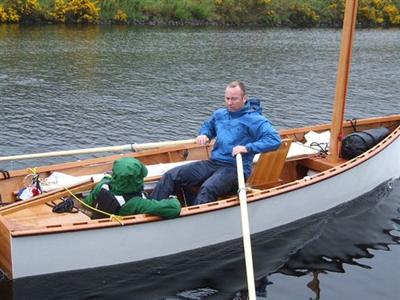person: (148, 81, 284, 208)
